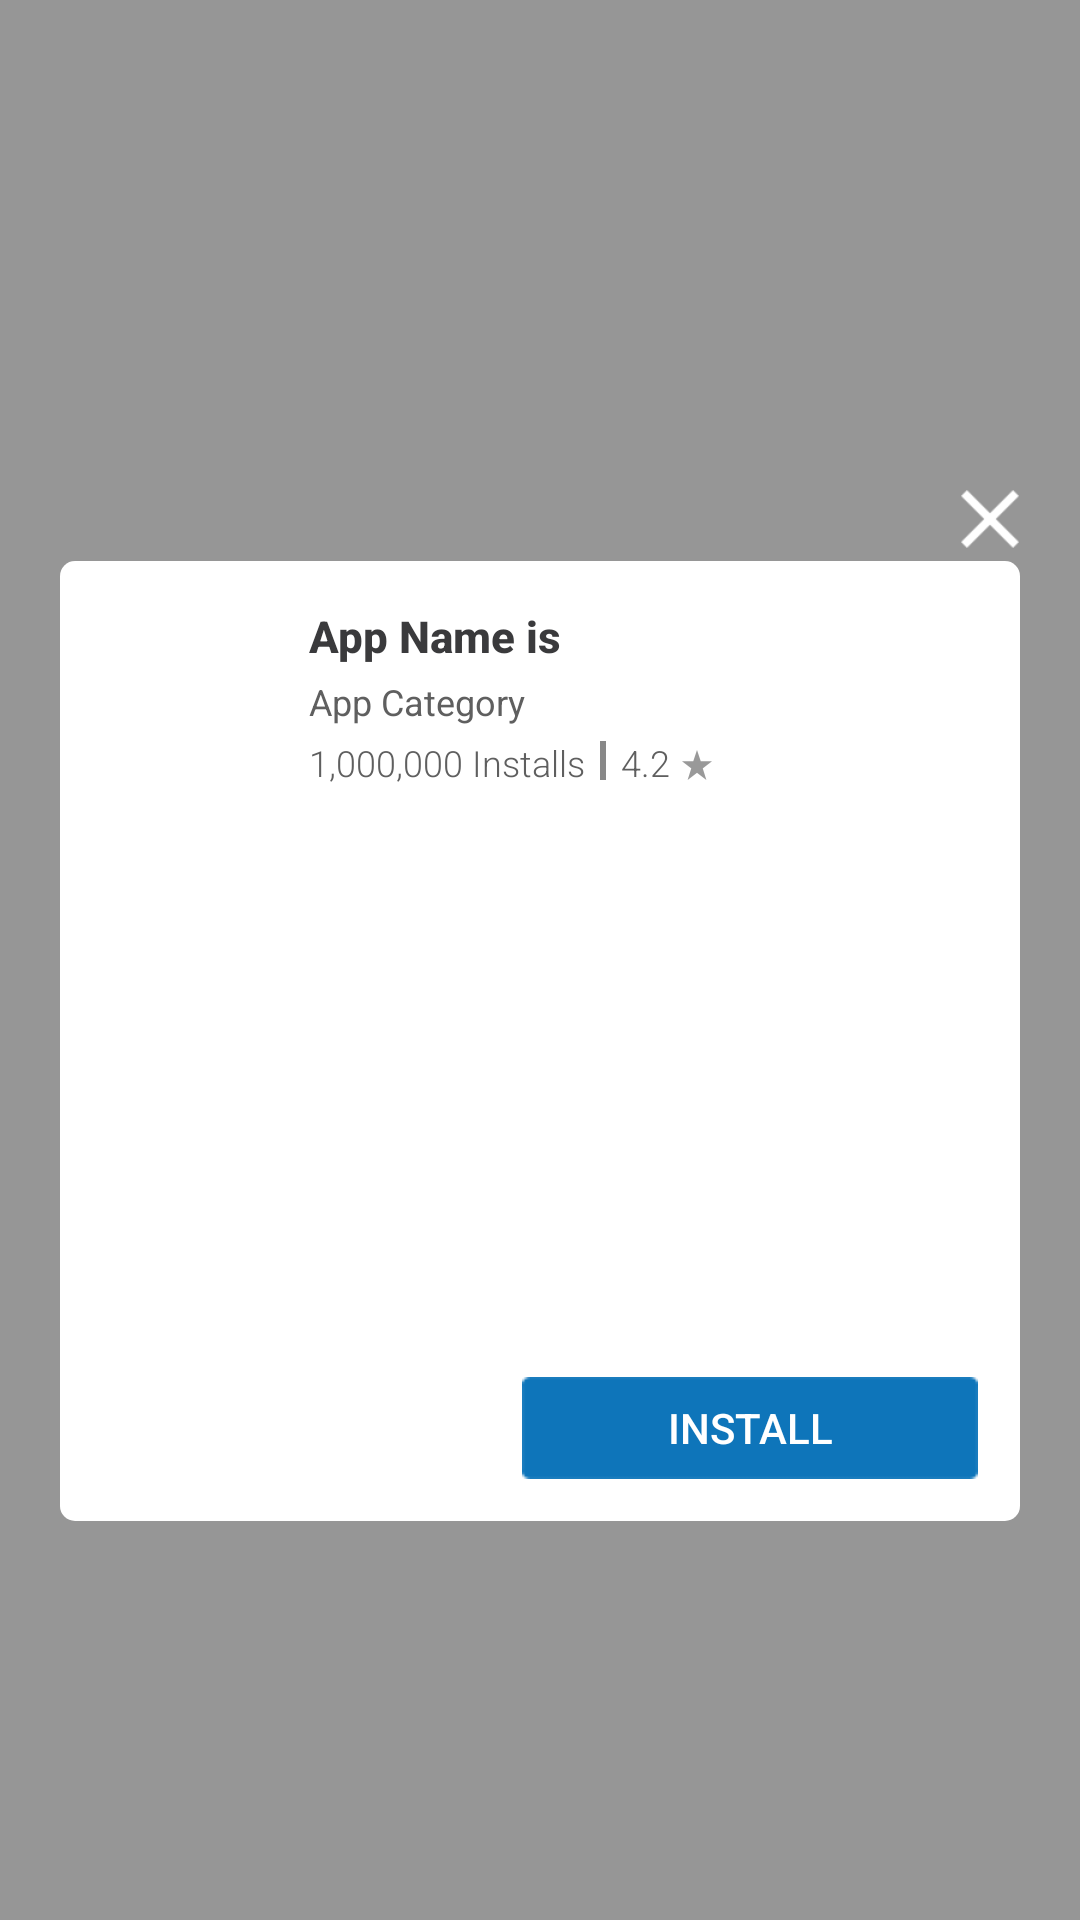

Icons on this 1080×1920 Android screen, each with the point to tap as (x,y):
close: (990,519)
